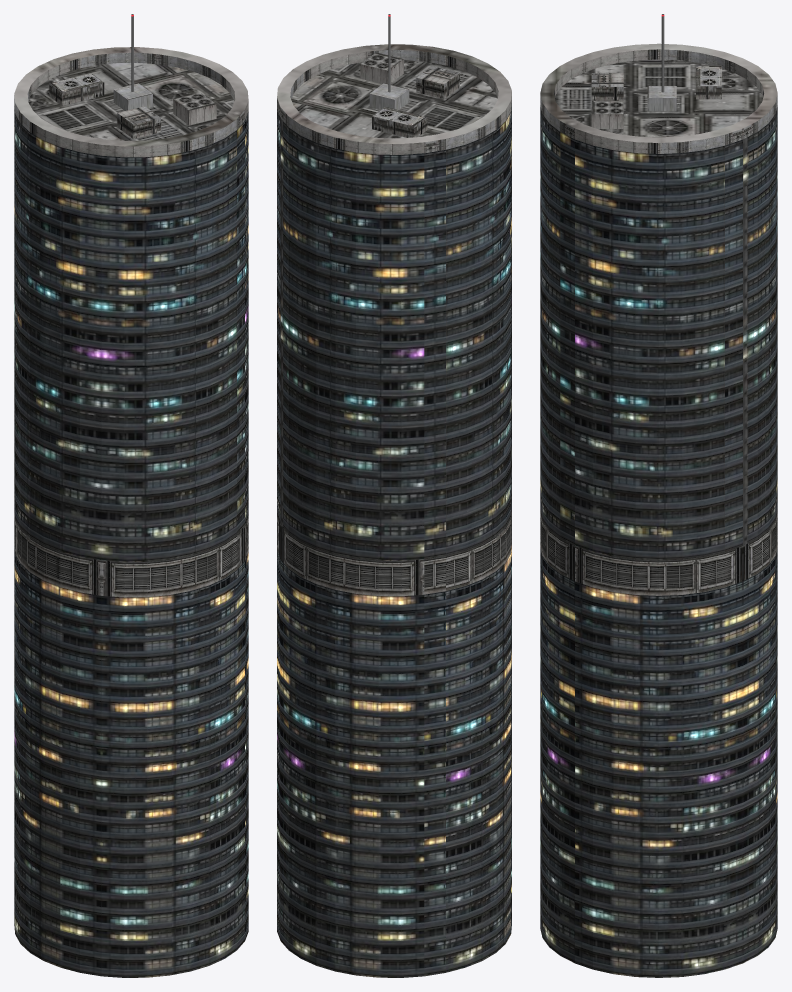
File: 2026-commercial-building-10.glb
3 views of the same model, side by side, from view 1: azimuth 30°, elevation 25°; view 2: azimuth 150°, elevation 25°; view 3: azimuth 270°, elevation 25° (orthographic).
Parts seen in each view (by area): view 1: 2026-commercial-building-10-new; view 2: 2026-commercial-building-10-new; view 3: 2026-commercial-building-10-new.
Part boxes in pixels (<box>): 2026-commercial-building-10-new: <box>14,14,248,977</box>; 2026-commercial-building-10-new: <box>277,14,511,977</box>; 2026-commercial-building-10-new: <box>540,14,777,977</box>.
Bounding box in the file's own units: 46.59 × 200 × 47.08.
3 materials, 1 textured.
